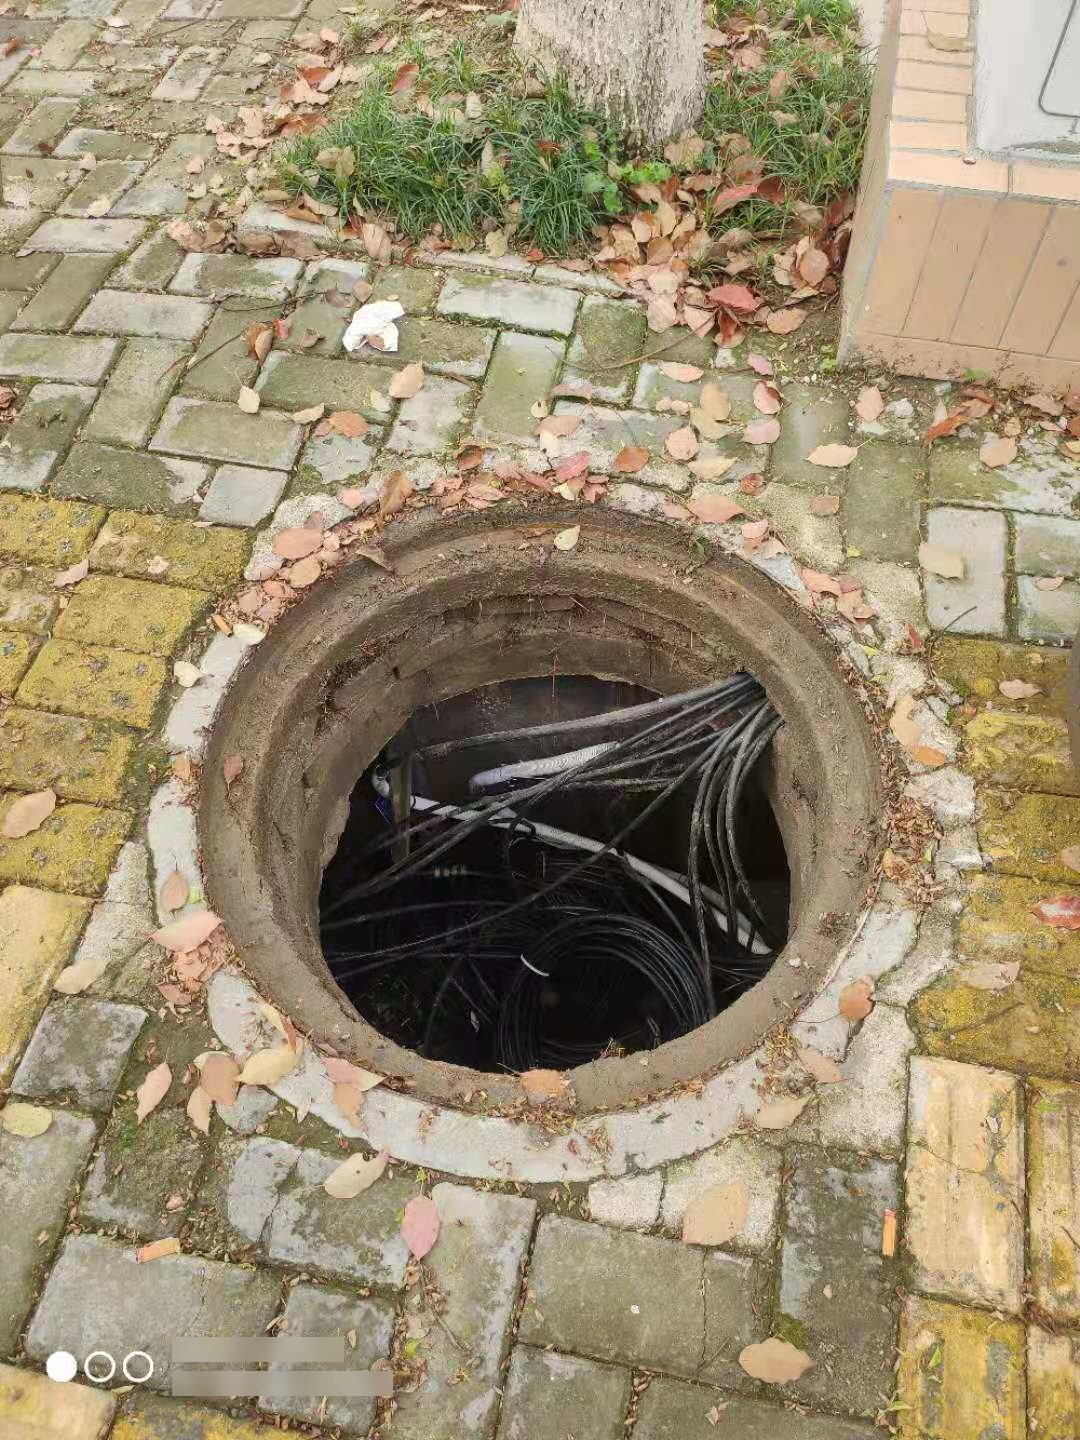lose: (147, 476, 930, 1183)
